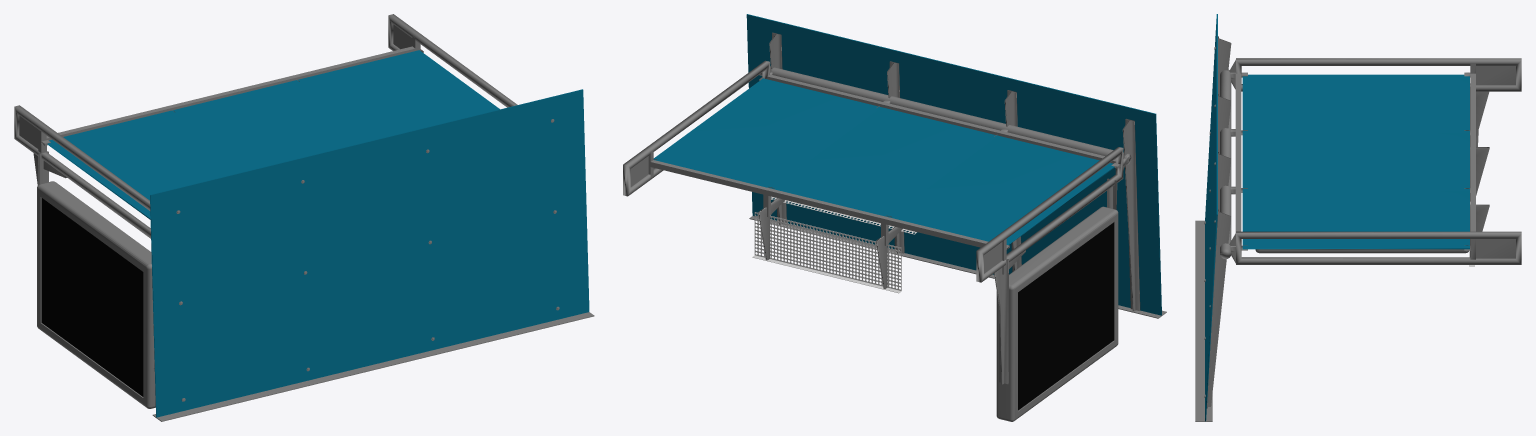
File: bus_stop.glb
3 views of the same model, side by side, from view 1: azimuth 30°, elevation 25°; view 2: azimuth 150°, elevation 25°; view 3: azimuth 270°, elevation 25° (orthographic). The views are drawn at different scales.
Parts seen in each view (by area): view 1: Box791, Box816, Box795, Box794, Box793, ChamferBox, Line112, Box808, Box814, Line122; view 2: Box791, Box795, Box794, Box793, Box816, ChamferBox, Line112, Cylinder00, Box814, Box815, Line113, Line122 (+12 smaller); view 3: Box793, Box794, Box795, Line122, Box791, Line112, Box808, Line117, Cylinder00, Box815, ChamferBox, Box814 (+8 smaller).
Part boxes in pixels (x1=…): Box791: x1=150, y1=89, x2=589, y2=417; Box816: x1=41, y1=198, x2=143, y2=396; Box795: x1=294, y1=50, x2=499, y2=139; Box794: x1=170, y1=80, x2=374, y2=169; Box793: x1=47, y1=111, x2=250, y2=219; ChamferBox: x1=37, y1=181, x2=155, y2=408; Line112: x1=14, y1=105, x2=150, y2=238; Box808: x1=152, y1=312, x2=594, y2=421; Box814: x1=44, y1=46, x2=415, y2=140; Line122: x1=388, y1=14, x2=517, y2=107; Box791: x1=746, y1=14, x2=1161, y2=315; Box795: x1=653, y1=78, x2=881, y2=188; Box794: x1=771, y1=107, x2=998, y2=216; Box793: x1=888, y1=136, x2=1114, y2=245; Box816: x1=1018, y1=222, x2=1113, y2=410; ChamferBox: x1=996, y1=206, x2=1118, y2=421; Line112: x1=976, y1=147, x2=1123, y2=282; Cylinder00: x1=759, y1=66, x2=1131, y2=164; Box814: x1=648, y1=160, x2=988, y2=247; Box815: x1=767, y1=74, x2=1115, y2=163; Line113: x1=1122, y1=118, x2=1140, y2=311; Line122: x1=623, y1=60, x2=769, y2=196; Box793: x1=1242, y1=74, x2=1469, y2=132; Box794: x1=1242, y1=133, x2=1469, y2=190; Box795: x1=1242, y1=190, x2=1469, y2=249; Line122: x1=1236, y1=231, x2=1521, y2=264; Box791: x1=1205, y1=14, x2=1217, y2=421; Line112: x1=1236, y1=58, x2=1521, y2=91; Box808: x1=1195, y1=220, x2=1212, y2=421; Line117: x1=1207, y1=209, x2=1231, y2=408; Cylinder00: x1=1220, y1=70, x2=1231, y2=259; Box815: x1=1235, y1=73, x2=1241, y2=232; ChamferBox: x1=1255, y1=249, x2=1468, y2=253; Box814: x1=1470, y1=73, x2=1475, y2=231.
Size of the model in its own units: 1.65 by 0.8581 by 1.14.
